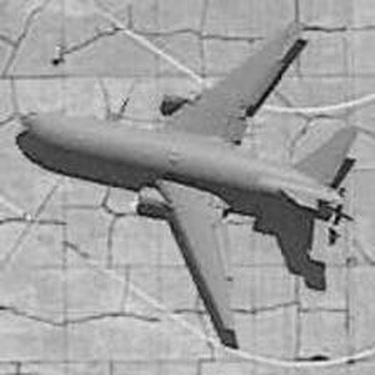airplane: (8, 9, 364, 346)
